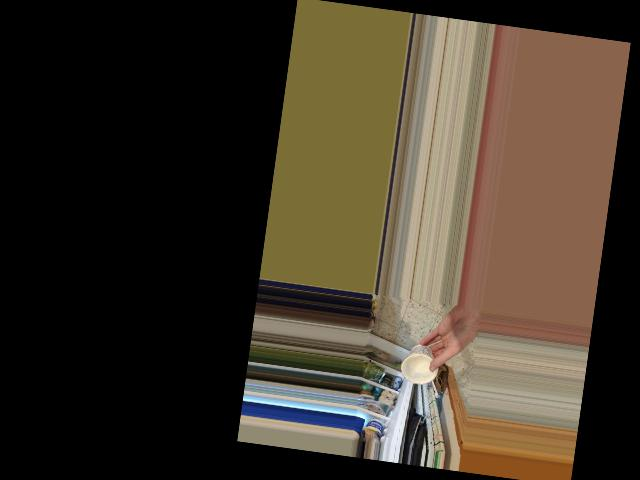cotage: (404, 341, 436, 390)
